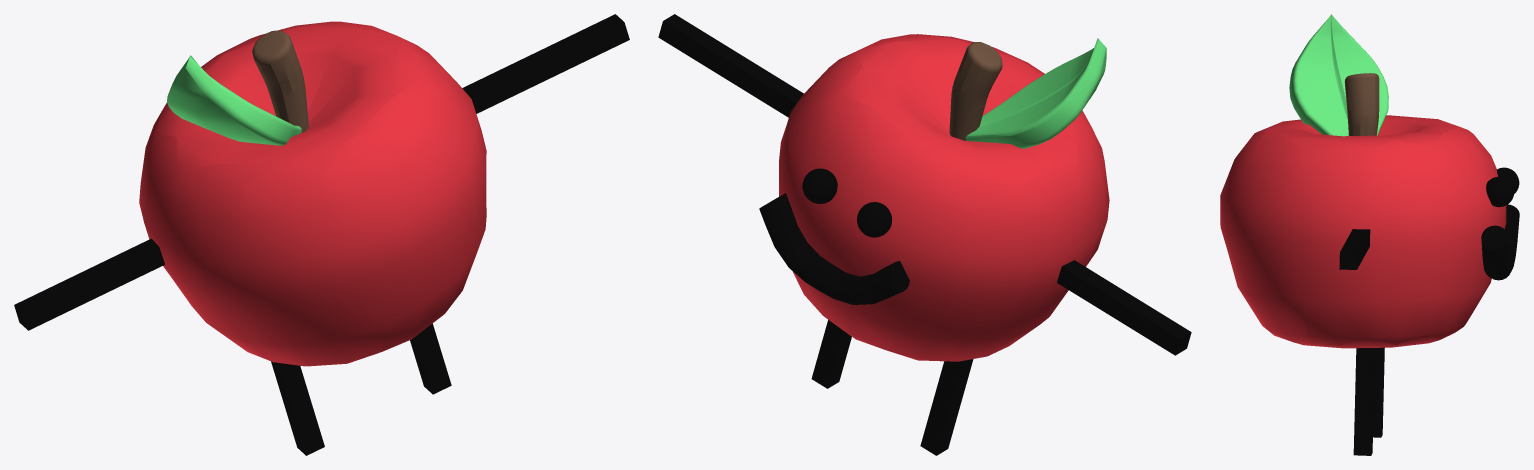
The model's file is Apple-San.glb.
3 views of the same model, side by side, from view 1: azimuth 30°, elevation 25°; view 2: azimuth 150°, elevation 25°; view 3: azimuth 270°, elevation 25° (orthographic). The views are drawn at different scales.
Visible parts, largest first — view 1: Apple NFT, Cube (2), Cube (3), Cube (1), Cube; view 2: Apple NFT, character_face:smile, Cube (2), Cube (3), Cube (1), Cube, character_face:pSphere2, character_face:pSphere1; view 3: Apple NFT, Cube, character_face:smile, Cube (2), Cube (1), character_face:pSphere2.
Boxes of the visible parts, x1,y1,x2,y2 form: Apple NFT: [139, 21, 486, 366]; Cube (2): [462, 14, 629, 113]; Cube (3): [14, 238, 164, 330]; Cube (1): [271, 361, 324, 455]; Cube: [410, 323, 451, 394]; Apple NFT: [779, 34, 1109, 361]; character_face:smile: [759, 193, 909, 304]; Cube (2): [658, 14, 803, 117]; Cube (3): [1057, 260, 1191, 355]; Cube (1): [920, 359, 973, 455]; Cube: [811, 320, 851, 388]; character_face:pSphere2: [802, 168, 837, 203]; character_face:pSphere1: [857, 202, 891, 237]; Apple NFT: [1220, 14, 1506, 348]; Cube: [1353, 348, 1375, 455]; character_face:smile: [1481, 204, 1519, 280]; Cube (2): [1339, 229, 1370, 269]; Cube (1): [1373, 347, 1384, 437]; character_face:pSphere2: [1486, 176, 1514, 207].
Size of the model in its own units: 3.11 by 2.31 by 1.71.
